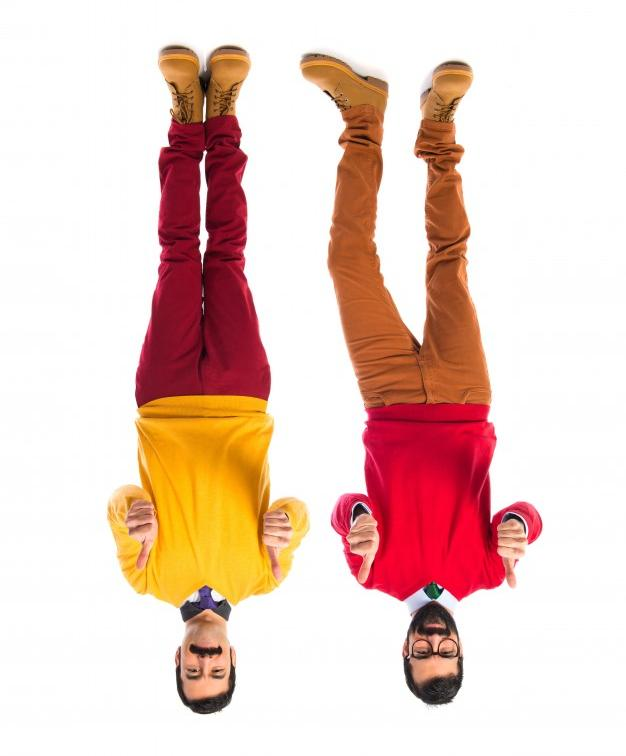thumbsdown: (346, 513, 378, 584), (125, 500, 156, 569), (263, 510, 292, 581), (497, 521, 527, 589)
